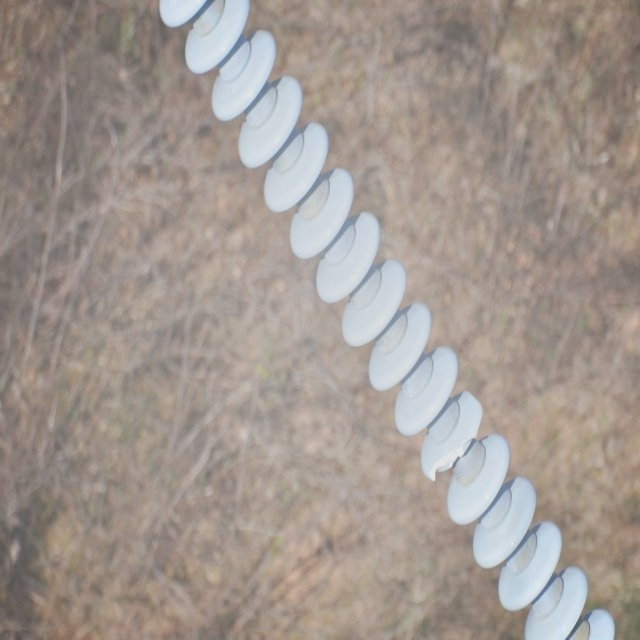broken: (428, 387, 485, 487)
insulator: (158, 0, 616, 640)
